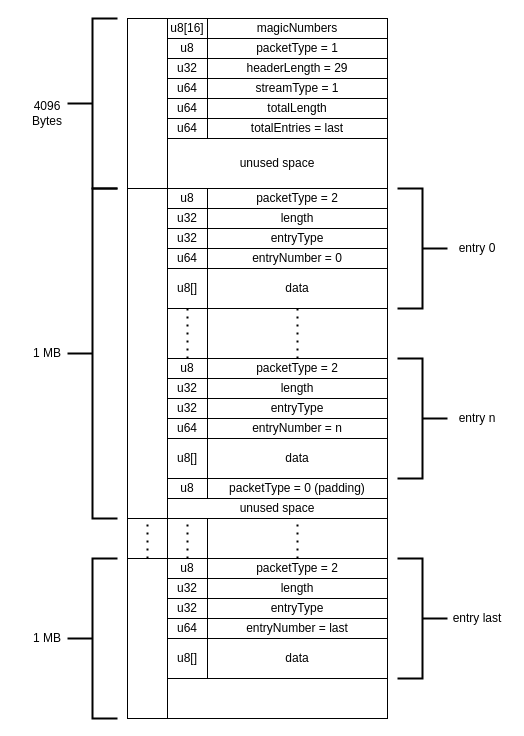
The diagram is 524 pixels wide and 736 high, and some of its shapes have lost their labels. The centre of each missing label's shape, as x and y in pixels:
"available space" belongs at point (277, 698).
"Data page 0" belongs at point (147, 353).
"Data page p" belongs at point (147, 638).
"Header" belongs at point (147, 103).
